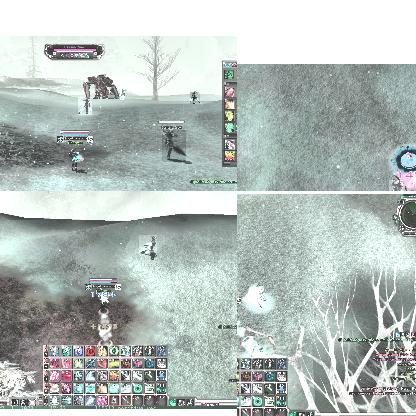caliana: (162, 130, 186, 162), (139, 235, 157, 253), (78, 97, 92, 115), (254, 286, 264, 306), (389, 180, 402, 191), (190, 92, 200, 104), (120, 88, 124, 100)
